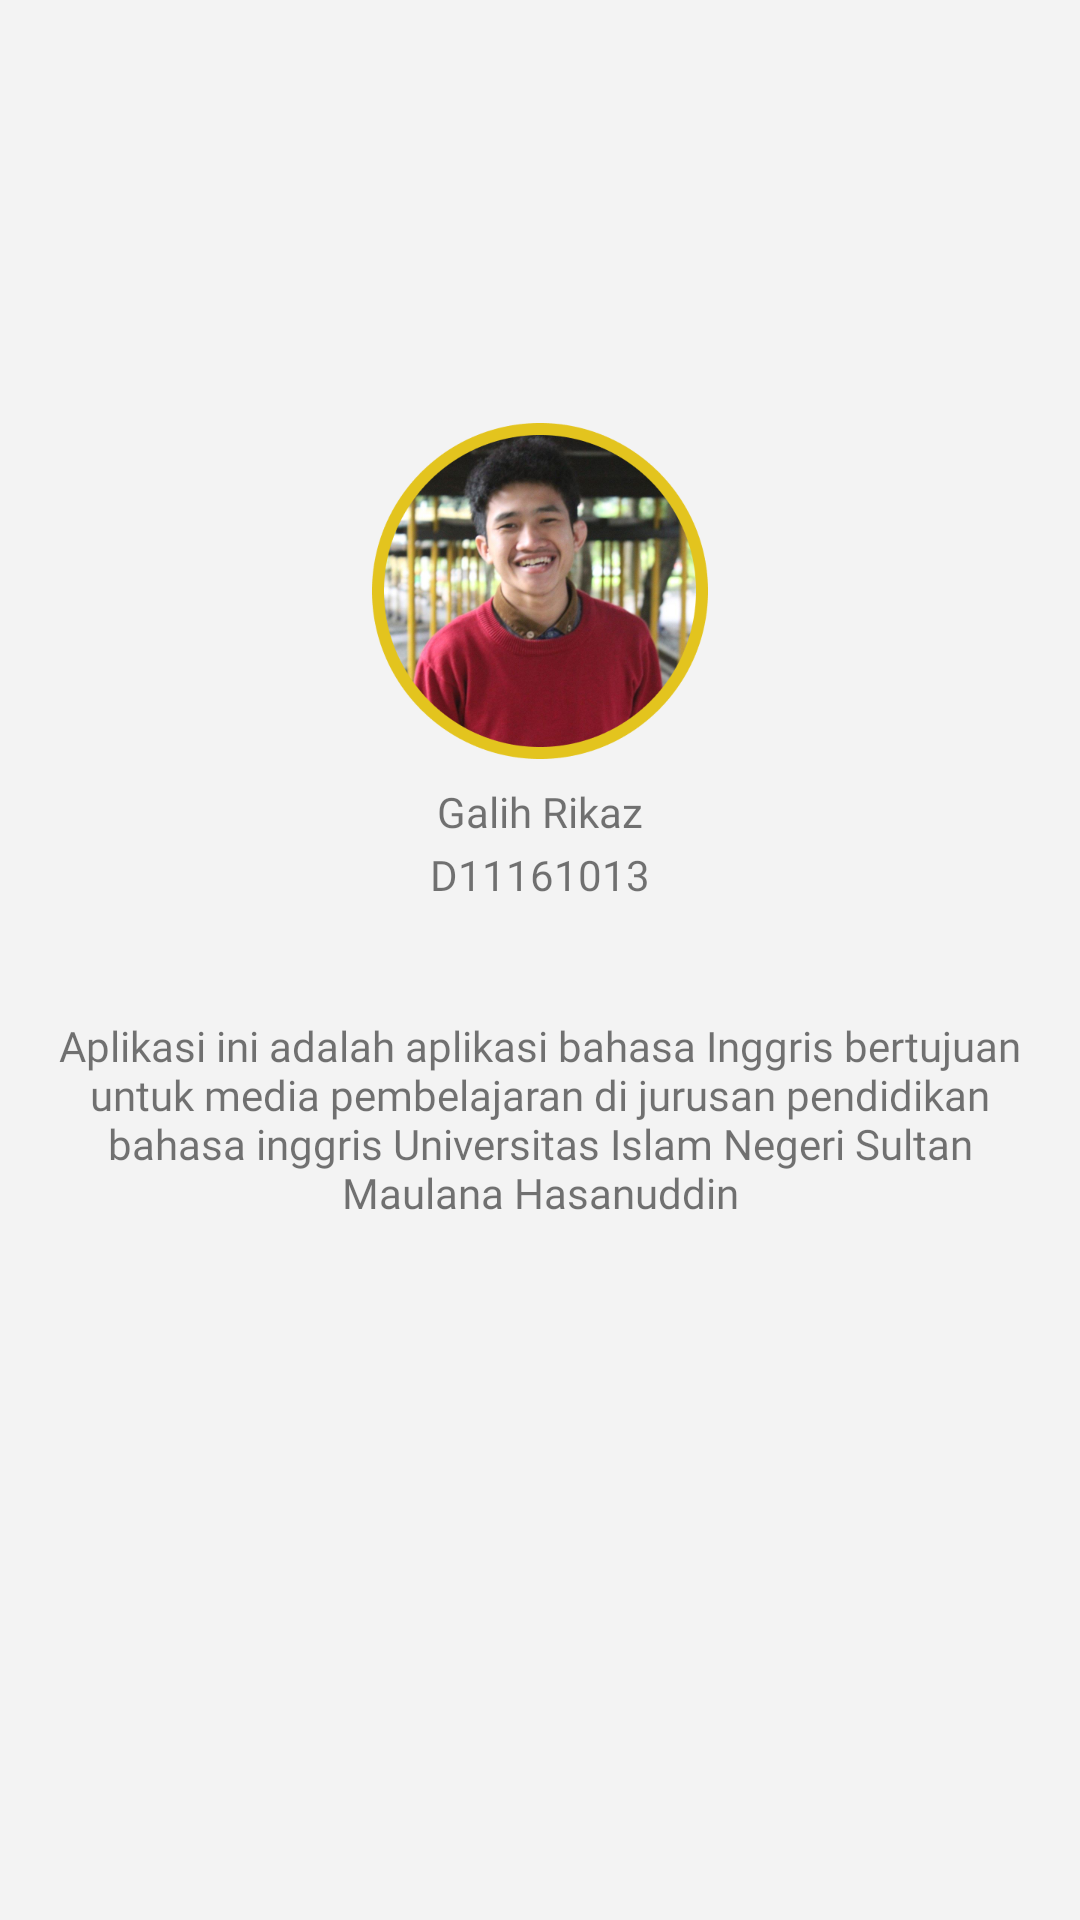

Icon bounding boxes for this 1080×1920 phone screenshot, format [left=x1, top=y1, right=x2, bottom=y2]:
profil: [left=372, top=423, right=708, bottom=759]
